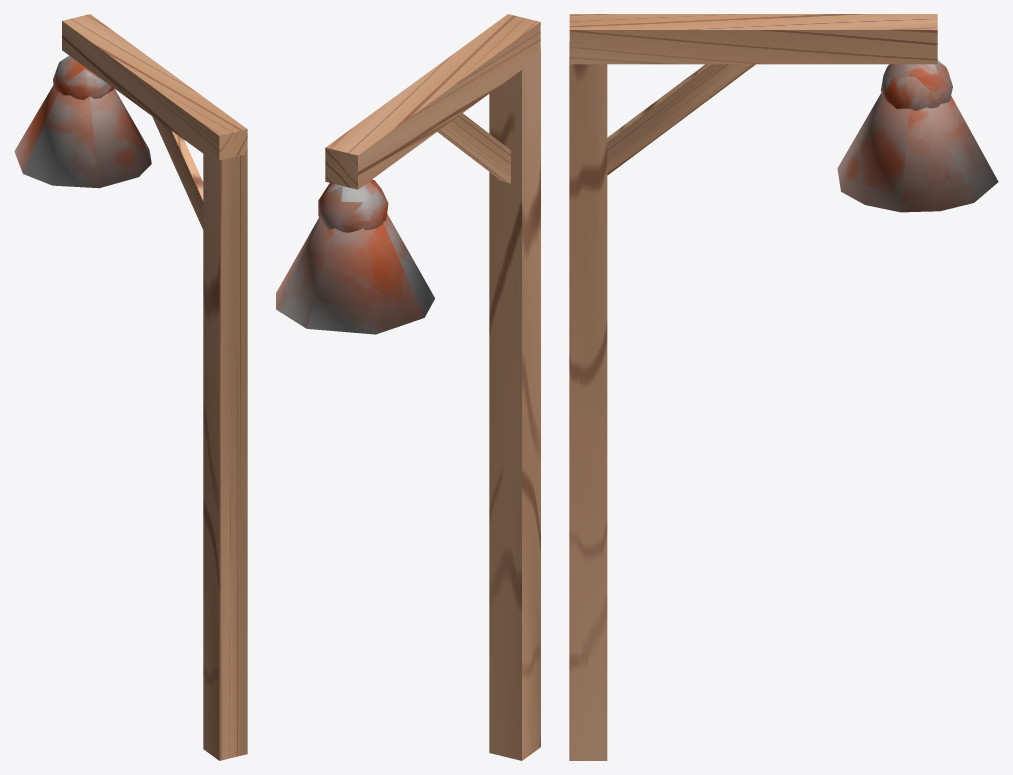
File: lightPost.fbx
3 views of the same model, side by side, from view 1: azimuth 30°, elevation 25°; view 2: azimuth 150°, elevation 25°; view 3: azimuth 270°, elevation 25° (orthographic). The views are drawn at different scales.
Visible parts, largest first — view 1: Cube, Cone, Cube.001, Cube.002; view 2: Cube, Cone, Cube.001, Cube.002; view 3: Cube, Cube.001, Cone, Cube.002.
Boxes of the visible parts, x1,y1,x2,y2 form: Cube: [203, 148, 247, 760]; Cone: [14, 55, 151, 188]; Cube.001: [62, 14, 247, 159]; Cube.002: [152, 116, 203, 229]; Cube: [489, 50, 540, 760]; Cone: [276, 179, 434, 334]; Cube.001: [325, 14, 540, 189]; Cube.002: [437, 113, 510, 183]; Cube: [569, 42, 607, 760]; Cube.001: [569, 14, 937, 64]; Cone: [837, 60, 998, 212]; Cube.002: [607, 64, 755, 175].
Bounding box in the file's own units: 852 × 4248 × 2261.
